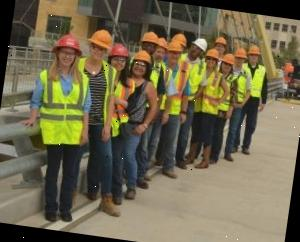helmet: (86, 28, 115, 51), (54, 32, 84, 52), (108, 41, 132, 60), (190, 36, 209, 54), (132, 50, 152, 65), (141, 30, 159, 46), (170, 32, 188, 45), (167, 40, 184, 52), (222, 52, 236, 66), (246, 44, 262, 56), (234, 48, 250, 59), (205, 47, 220, 58), (156, 36, 168, 49), (214, 36, 228, 45)
no_wear: (125, 78, 152, 125)
wear: (34, 68, 90, 144), (72, 58, 118, 127), (106, 72, 134, 126), (159, 62, 186, 116), (194, 68, 222, 114), (180, 58, 202, 99), (242, 64, 266, 98), (230, 68, 252, 104), (216, 72, 234, 114), (149, 59, 167, 98)
